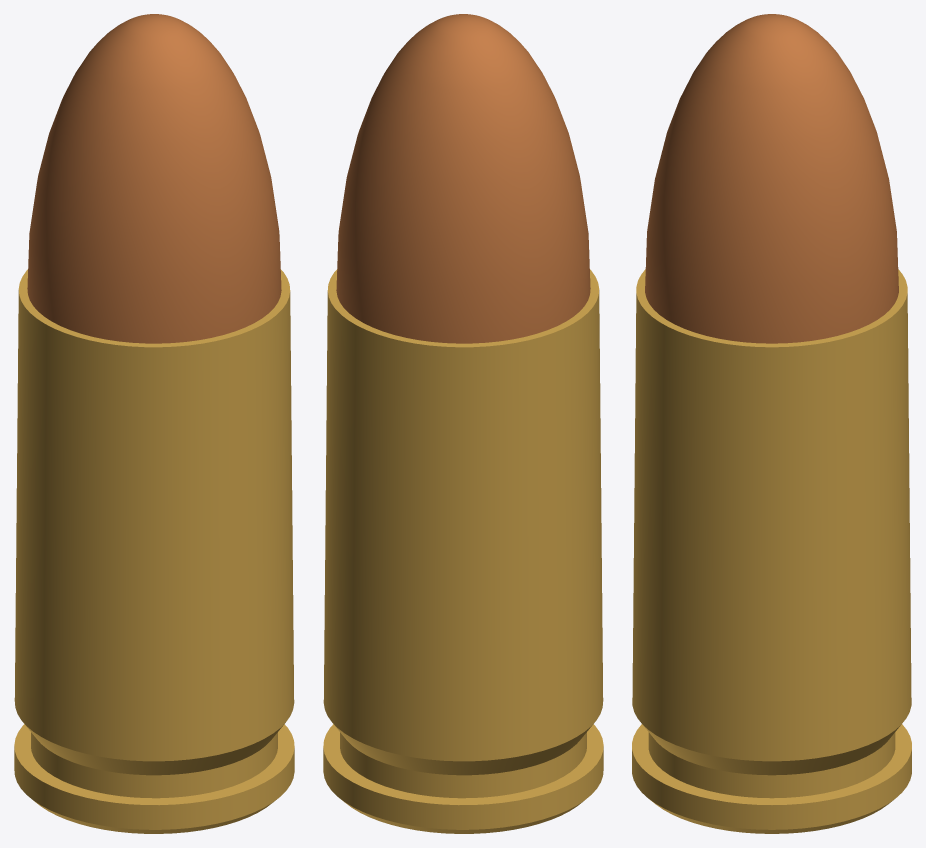
The model's file is gun-r9.glb.
3 views of the same model, side by side, from view 1: azimuth 30°, elevation 25°; view 2: azimuth 150°, elevation 25°; view 3: azimuth 270°, elevation 25° (orthographic).
Visible parts, largest first — view 1: frame_m, bullet_m; view 2: frame_m, bullet_m; view 3: frame_m, bullet_m.
Boxes of the visible parts, box(x1,y1,x2,y2) form: frame_m: box(14, 269, 294, 833); bullet_m: box(27, 14, 281, 343); frame_m: box(323, 269, 603, 833); bullet_m: box(336, 14, 590, 343); frame_m: box(632, 269, 911, 833); bullet_m: box(645, 14, 898, 343).
Size of the model in its own units: 0.00996 by 0.0297 by 0.00995.
